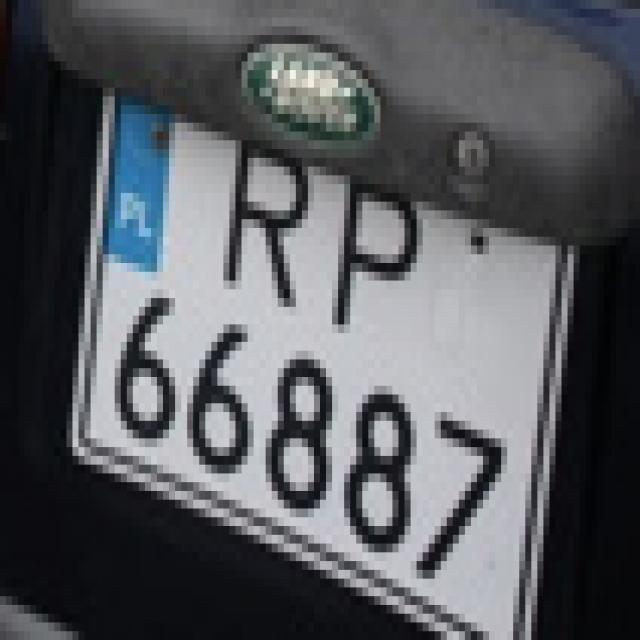6: (188, 291, 258, 504), (110, 269, 183, 464)
7: (422, 388, 513, 616)
8: (340, 366, 420, 589), (261, 317, 346, 523)
P: (336, 157, 418, 360)
R: (220, 113, 310, 317)
